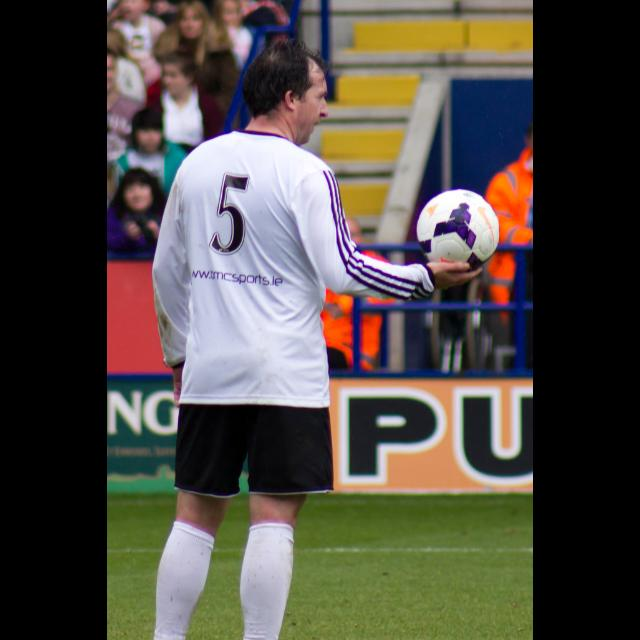Football: (414, 188, 498, 268)
